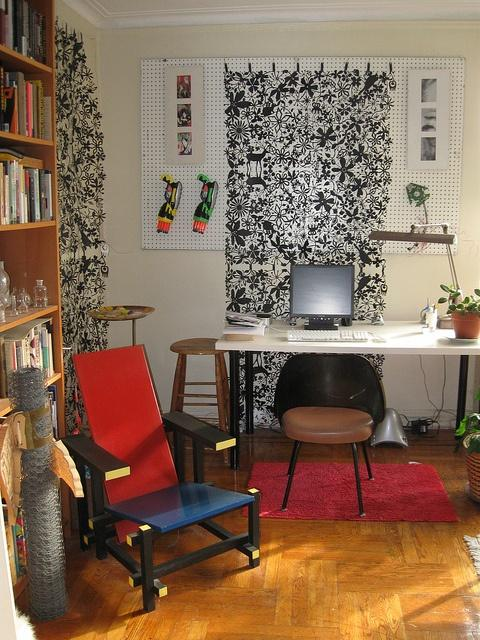AIO PC-Monitor-TV: (288, 263, 354, 321)
Meja: (213, 318, 479, 378)
Rak: (0, 0, 66, 440)
